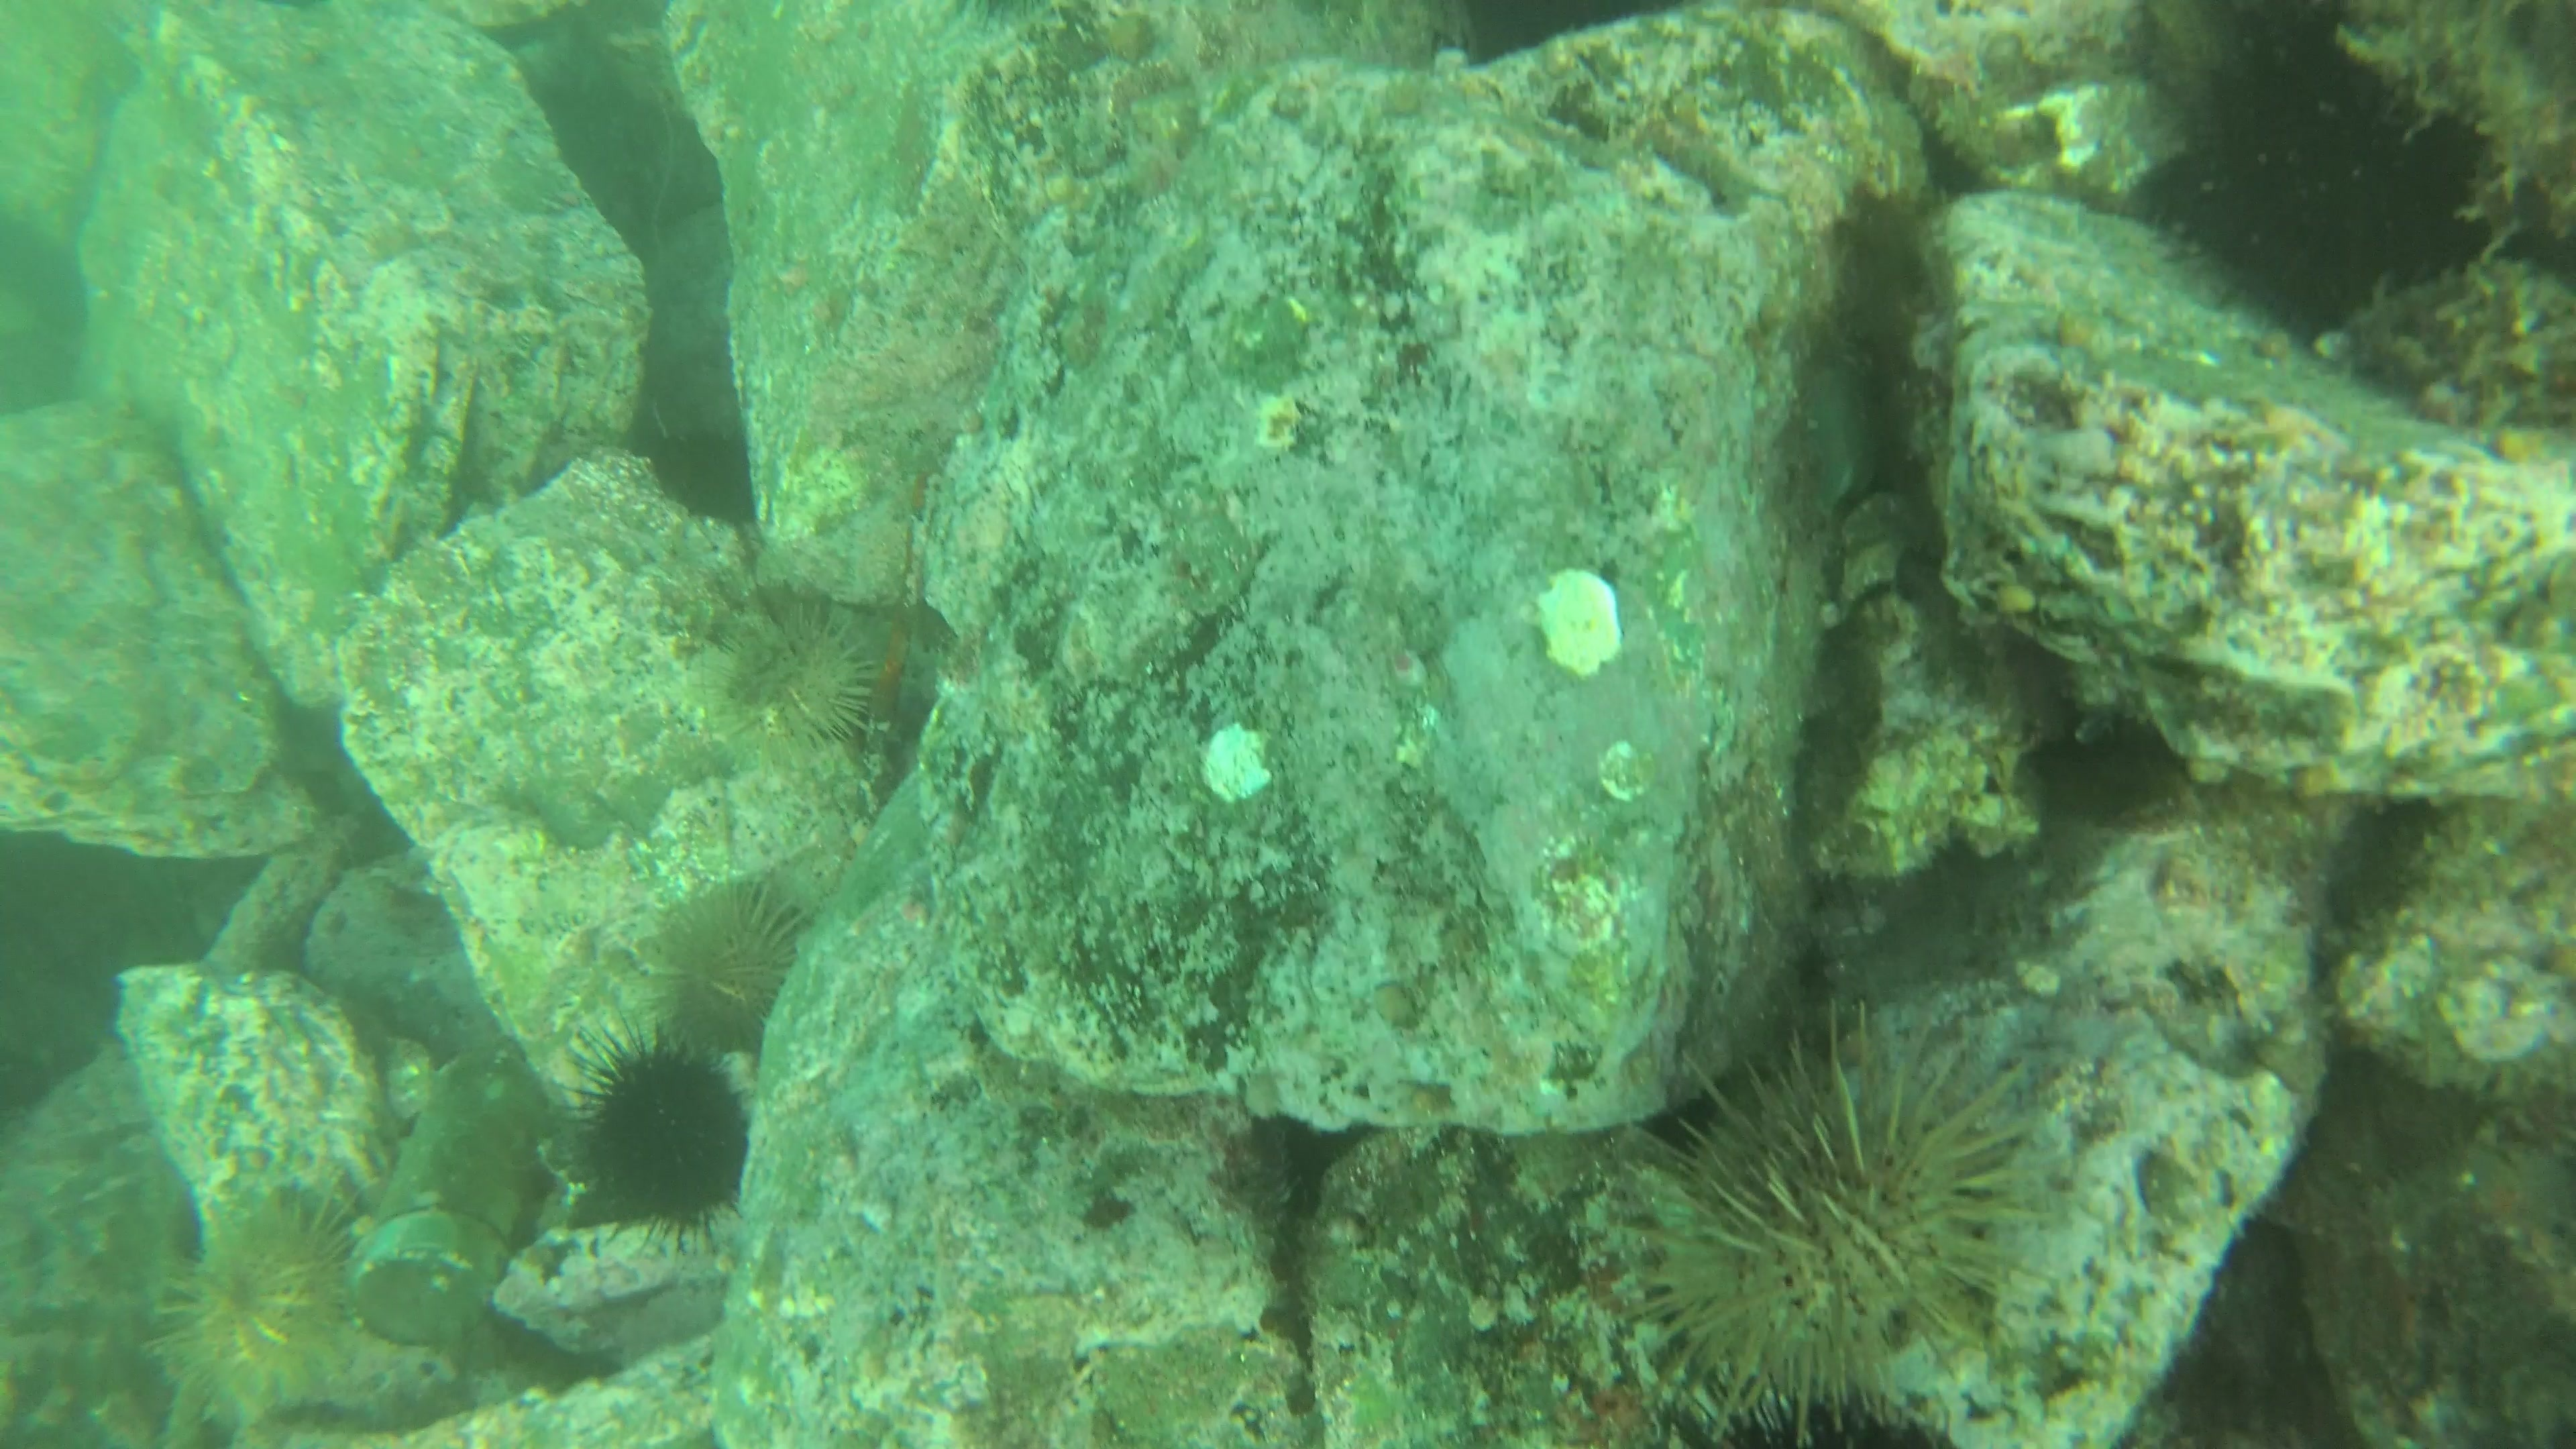echinus: (1622, 1024, 2043, 1437), (143, 1189, 373, 1430), (561, 1024, 763, 1238), (642, 876, 814, 1056), (706, 593, 888, 761), (1670, 1362, 1946, 1442)
